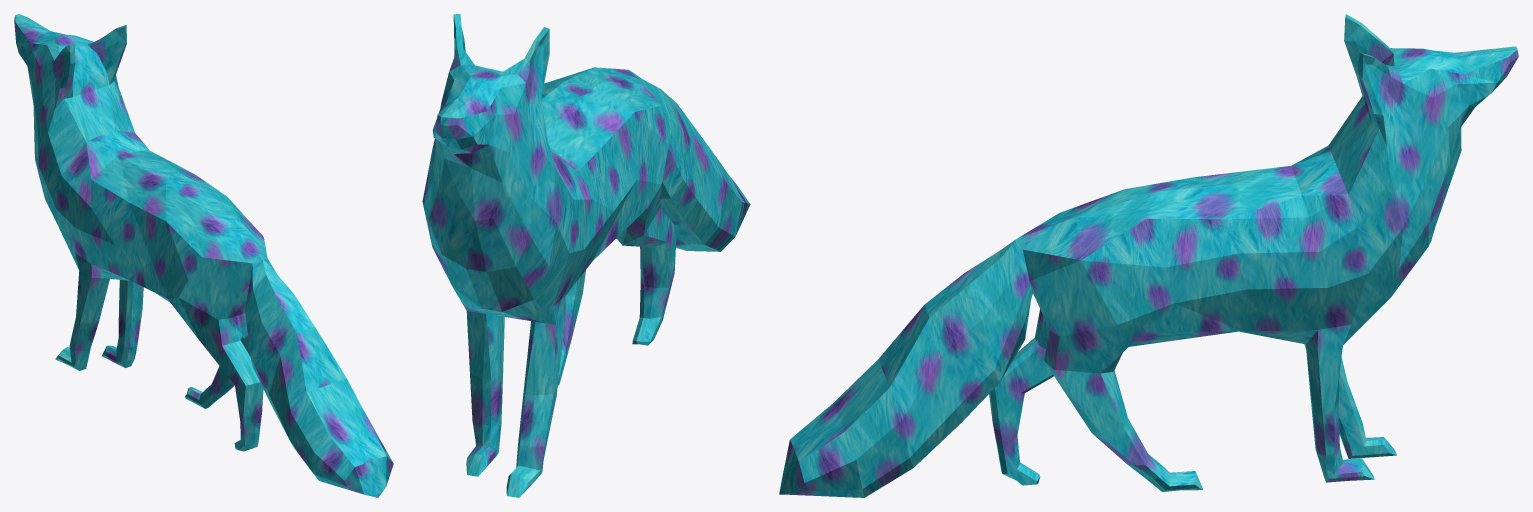
File: fox.glb
The picture shows the model from 3 angles, left to right: view 1: azimuth 30°, elevation 25°; view 2: azimuth 150°, elevation 25°; view 3: azimuth 270°, elevation 25°; orthographic projection. The views are drawn at different scales.
Parts seen in each view (by area): view 1: Fox.001; view 2: Fox.001; view 3: Fox.001.
Part boxes in pixels (left/top/right/bottom): Fox.001: left=14, top=14, right=393, bottom=497; Fox.001: left=422, top=14, right=750, bottom=497; Fox.001: left=779, top=14, right=1518, bottom=497.
Bounding box in the file's own units: 0.0674 × 0.1537 × 0.2374.
1 material, 1 textured.
